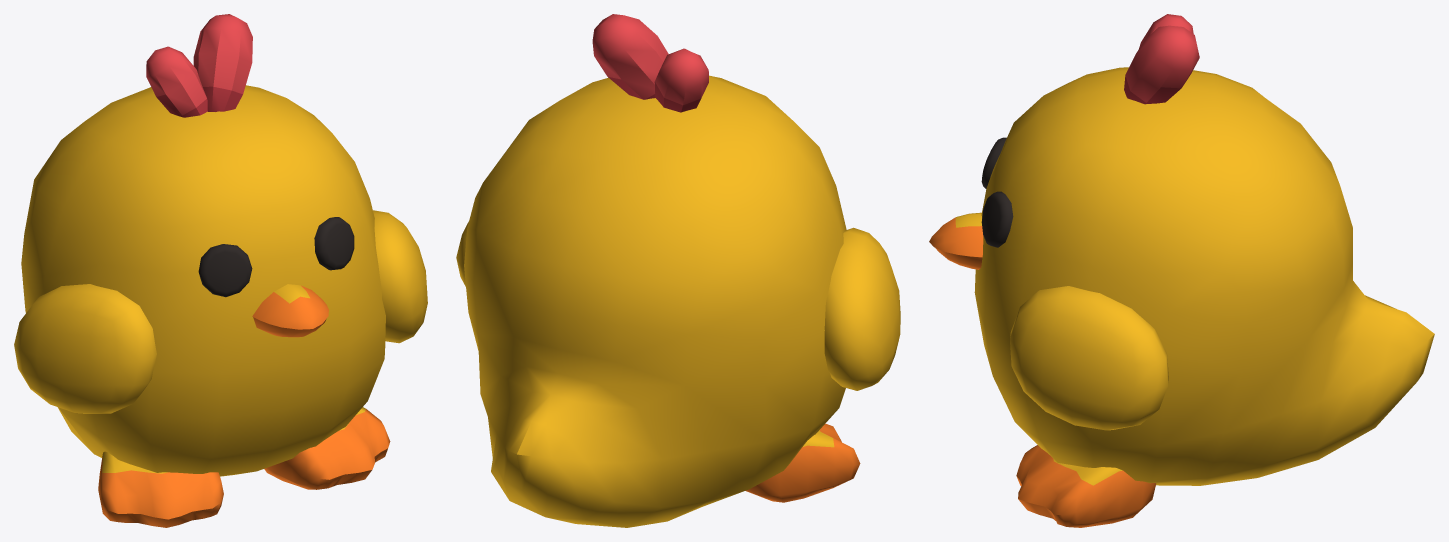
The model's file is pelucia_pintinho_pacote.glb.
The picture shows the model from 3 angles, left to right: view 1: azimuth 30°, elevation 25°; view 2: azimuth 150°, elevation 25°; view 3: azimuth 270°, elevation 25°; orthographic projection. The views are drawn at different scales.
Parts seen in each view (by area): view 1: pelucia_pintinho_pacote; view 2: pelucia_pintinho_pacote; view 3: pelucia_pintinho_pacote.
Part boxes in pixels (box(x1,y1,x2,y2)): pelucia_pintinho_pacote: box(14, 14, 427, 527); pelucia_pintinho_pacote: box(456, 14, 900, 527); pelucia_pintinho_pacote: box(929, 14, 1434, 527).
Bounding box in the file's own units: 0.4035 × 0.433 × 0.4358.
1 material, 1 textured.
